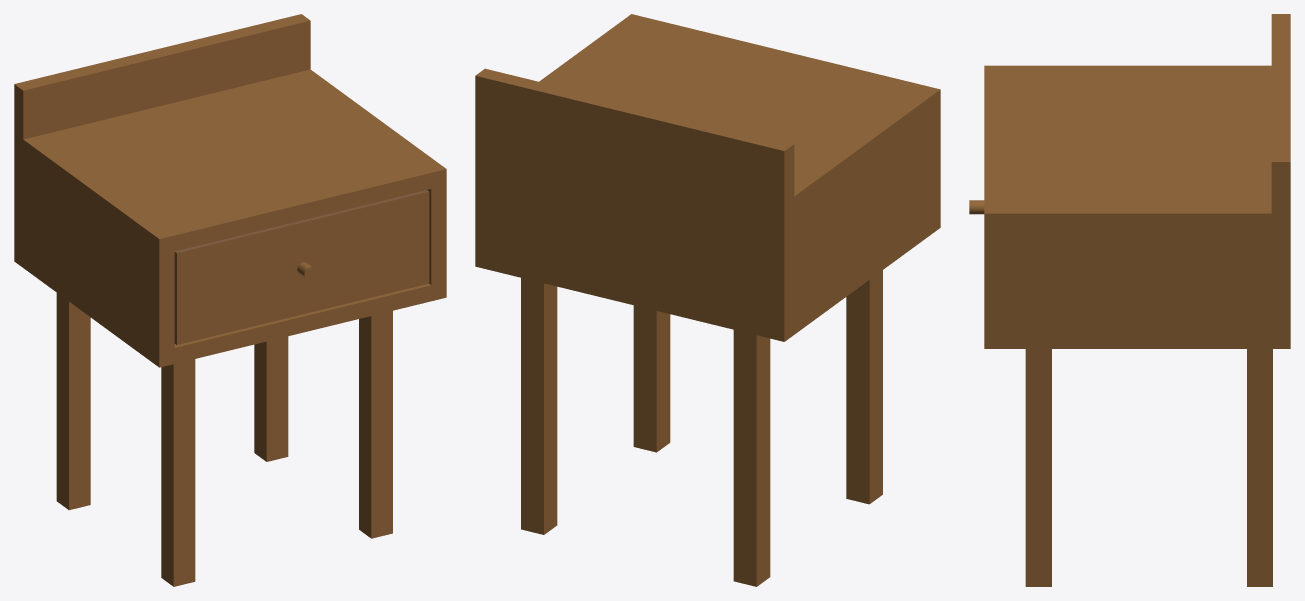
Rendered from Bedside cabinet.dae.
The picture shows the model from 3 angles, left to right: view 1: azimuth 30°, elevation 25°; view 2: azimuth 150°, elevation 25°; view 3: azimuth 270°, elevation 25°; orthographic projection. The views are drawn at different scales.
Parts seen in each view (by area): view 1: instance_0 (×7); view 2: instance_0 (×6); view 3: instance_0 (×3).
Boxes of the visible parts, <box> form: instance_0 (×7): <box>14,14,446,586</box>; instance_0 (×6): <box>475,14,940,586</box>; instance_0 (×3): <box>984,14,1290,586</box>.
Size of the model in its own units: 15.75 by 14.45 by 21.97.
